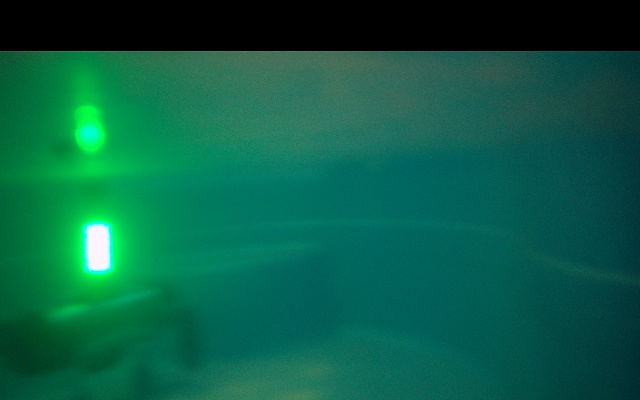green: (85, 220, 111, 281)
